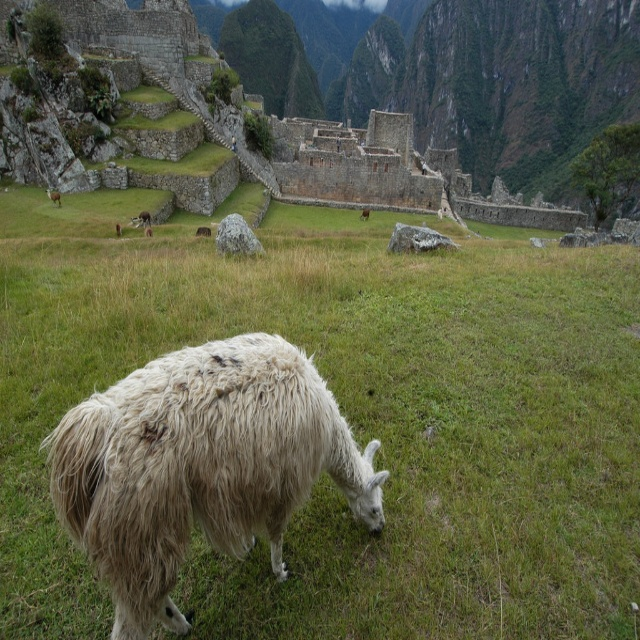Sheep: (37, 329, 385, 639)
